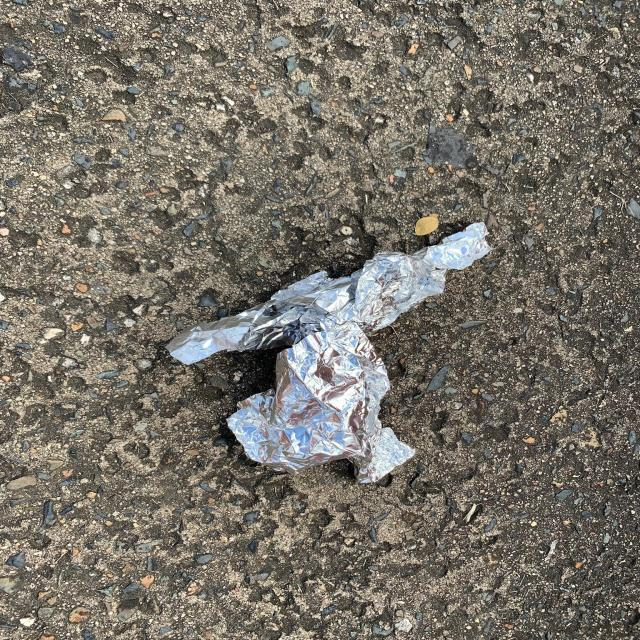litter: (169, 223, 496, 485)
